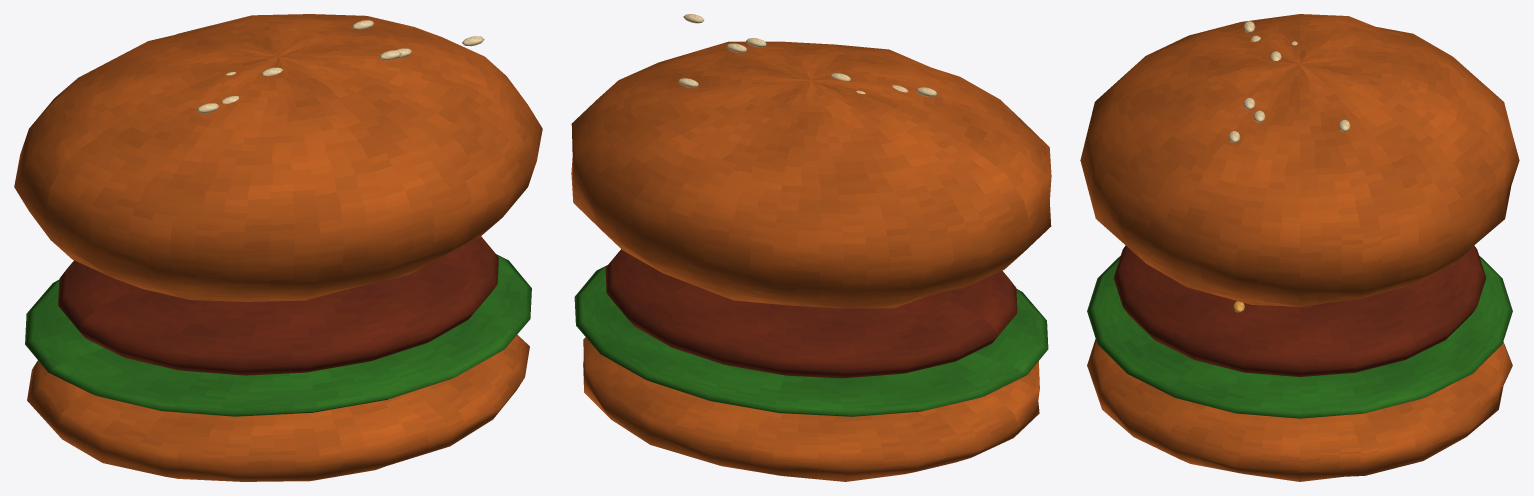
Rendered from bread_ginger_burger.glb.
The picture shows the model from 3 angles, left to right: view 1: azimuth 30°, elevation 25°; view 2: azimuth 150°, elevation 25°; view 3: azimuth 270°, elevation 25°; orthographic projection. The views are drawn at different scales.
Visible parts, largest first — view 1: ふっくらした上のバンズ.001, 下のバンズ.001, パティまたは具.001, シャキシャキレタス.001; view 2: ふっくらした上のバンズ.001, 下のバンズ.001, パティまたは具.001, シャキシャキレタス.001; view 3: ふっくらした上のバンズ.001, パティまたは具.001, 下のバンズ.001, シャキシャキレタス.001.
Part boxes in pixels (bbox=[...]): ふっくらした上のバンズ.001: bbox=[14, 14, 542, 301]; 下のバンズ.001: bbox=[27, 335, 529, 481]; パティまたは具.001: bbox=[58, 236, 498, 375]; シャキシャキレタス.001: bbox=[25, 254, 531, 416]; ふっくらした上のバンズ.001: bbox=[571, 41, 1051, 308]; 下のバンズ.001: bbox=[583, 337, 1039, 481]; パティまたは具.001: bbox=[605, 249, 1017, 378]; シャキシャキレタス.001: bbox=[574, 265, 1048, 416]; ふっくらした上のバンズ.001: bbox=[1080, 14, 1519, 306]; パティまたは具.001: bbox=[1113, 245, 1486, 376]; 下のバンズ.001: bbox=[1087, 339, 1512, 481]; シャキシャキレタス.001: bbox=[1087, 255, 1512, 418].
Size of the model in its own units: 0.7731 by 0.5883 by 0.66.
Materials: 5 (5 with a texture image).
